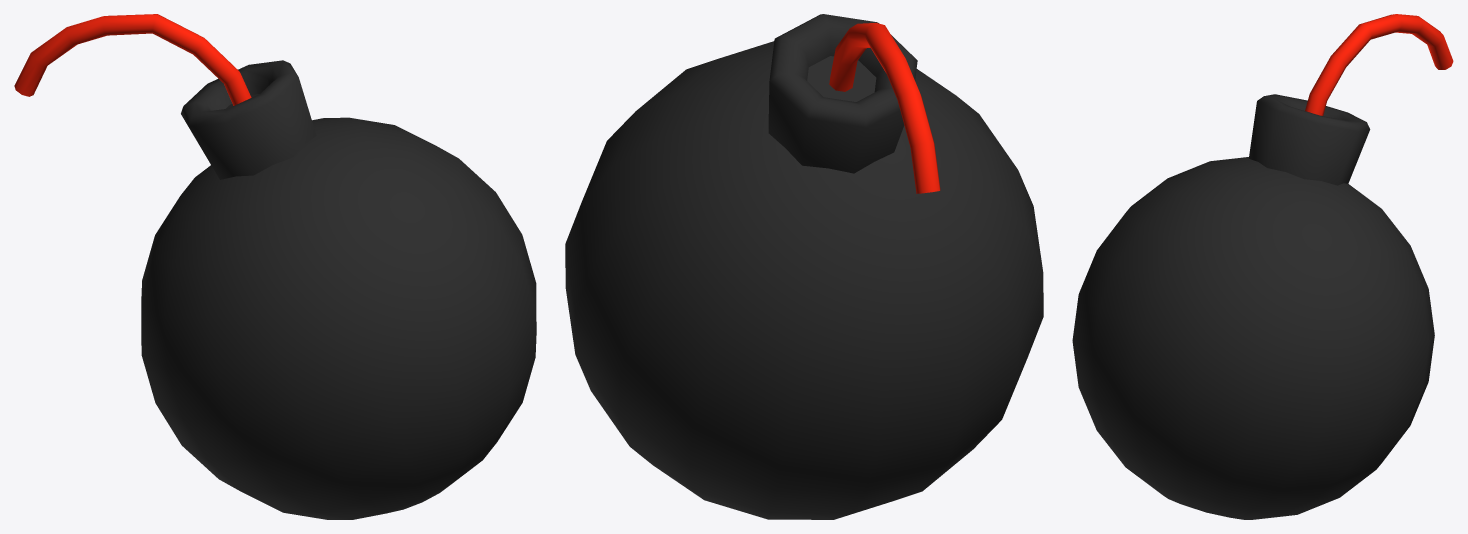
Rendered from Bomb.fbx.
3 views of the same model, side by side, from view 1: azimuth 30°, elevation 25°; view 2: azimuth 150°, elevation 25°; view 3: azimuth 270°, elevation 25° (orthographic). The views are drawn at different scales.
Parts seen in each view (by area): view 1: Bomb; view 2: Bomb; view 3: Bomb.
Boxes of the visible parts, x1,y1,x2,y2 form: Bomb: (14, 14, 536, 519); Bomb: (565, 14, 1043, 519); Bomb: (1072, 14, 1453, 519).
Size of the model in its own units: 134 by 154 by 125.
